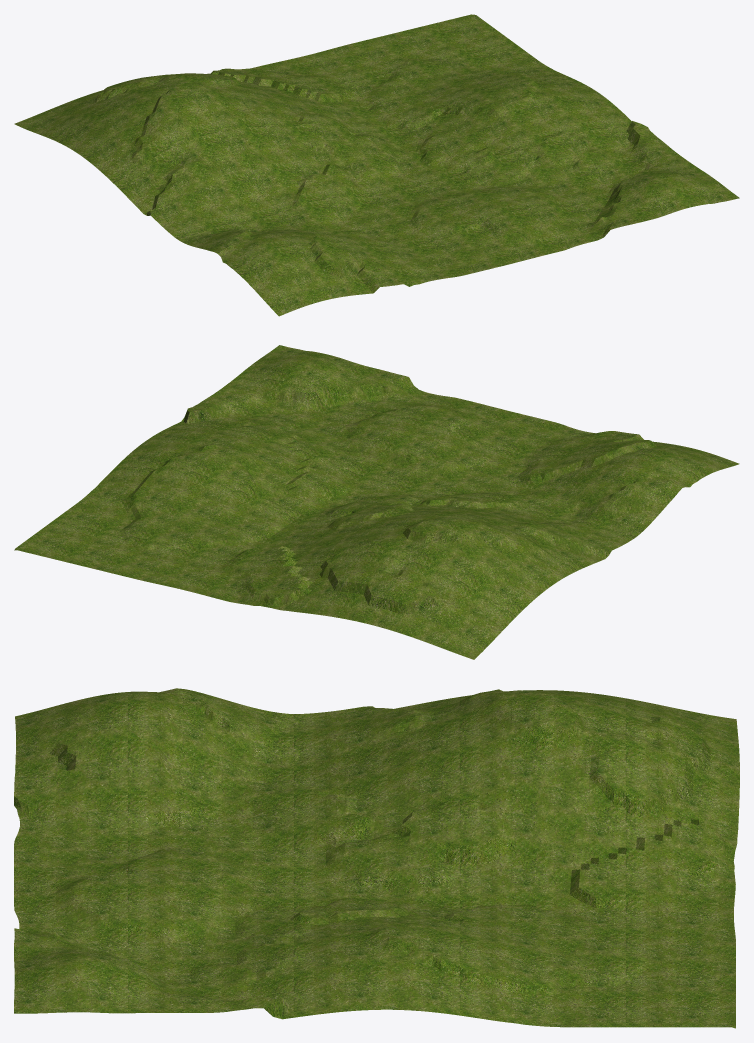
File: plains.obj
3 renders of one model, top to bottom at view 1: azimuth 30°, elevation 25°; view 2: azimuth 150°, elevation 25°; view 3: azimuth 270°, elevation 25°, orthographic. The views are drawn at different scales.
Parts seen in each view (by area): view 1: Cube.001; view 2: Cube.001; view 3: Cube.001.
Part boxes in pixels (x1,y1,x2,y2): Cube.001: [14, 14, 739, 316]; Cube.001: [14, 345, 739, 659]; Cube.001: [14, 688, 739, 1028].
Size of the model in its own units: 101 by 12.82 by 101.
